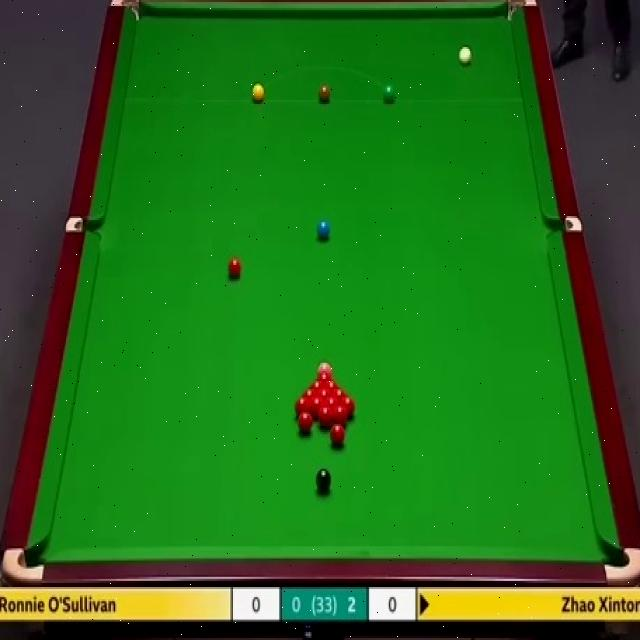black-ball: (316, 468, 332, 495)
blue-ball: (315, 219, 331, 242)
brown-ball: (318, 84, 331, 104)
green-ball: (382, 83, 395, 104)
pink-ball: (317, 360, 334, 375)
red-ball: (226, 255, 244, 283), (330, 425, 348, 448), (331, 406, 348, 427), (297, 411, 313, 433), (318, 406, 332, 427), (295, 396, 311, 413), (325, 398, 339, 417), (310, 397, 324, 415), (340, 398, 356, 413), (316, 389, 333, 398), (302, 388, 317, 398), (325, 380, 340, 389), (316, 372, 332, 380), (333, 390, 348, 398), (310, 381, 324, 388)
white-ball: (458, 46, 474, 69)
yellow-ball: (252, 84, 265, 104)
